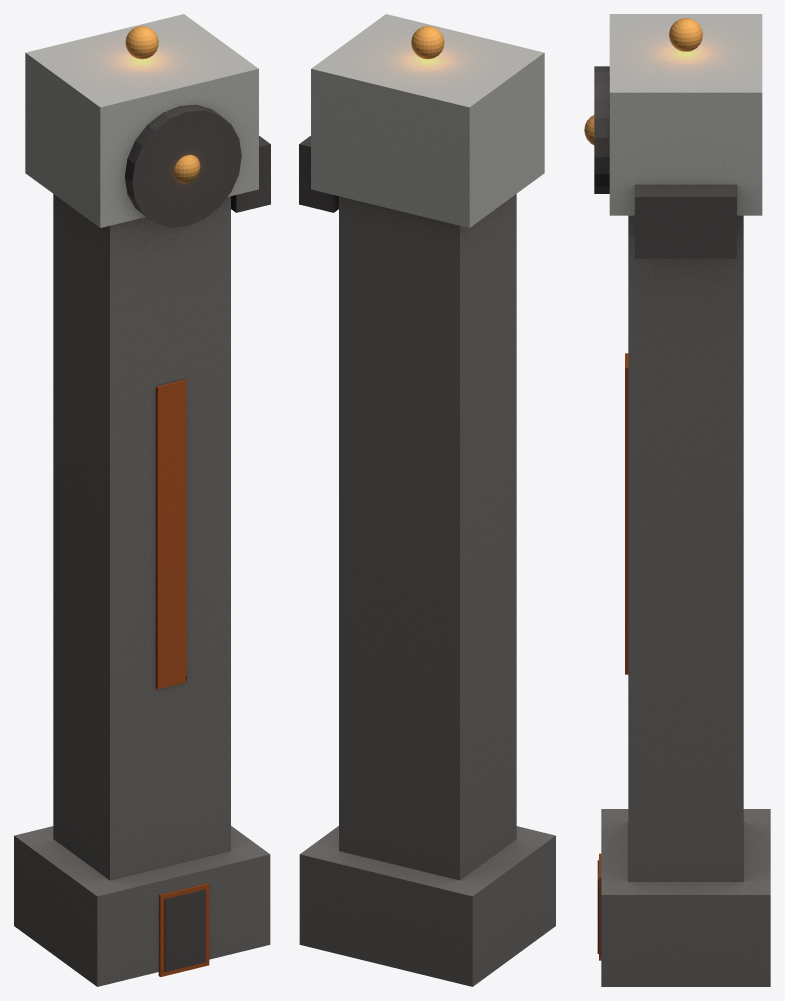
The model's file is radio_mast_script.glb.
The picture shows the model from 3 angles, left to right: view 1: azimuth 30°, elevation 25°; view 2: azimuth 150°, elevation 25°; view 3: azimuth 270°, elevation 25°; orthographic projection.
Visible parts, largest first — view 1: Cube; view 2: Cube; view 3: Cube.
Boxes of the visible parts, <box> form: Cube: <box>14,14,270,986</box>; Cube: <box>299,14,555,986</box>; Cube: <box>584,14,770,986</box>.
Bounding box in the file's own units: 6.6 × 30.25 × 5.5.
Materials: 1 (1 with a texture image).
